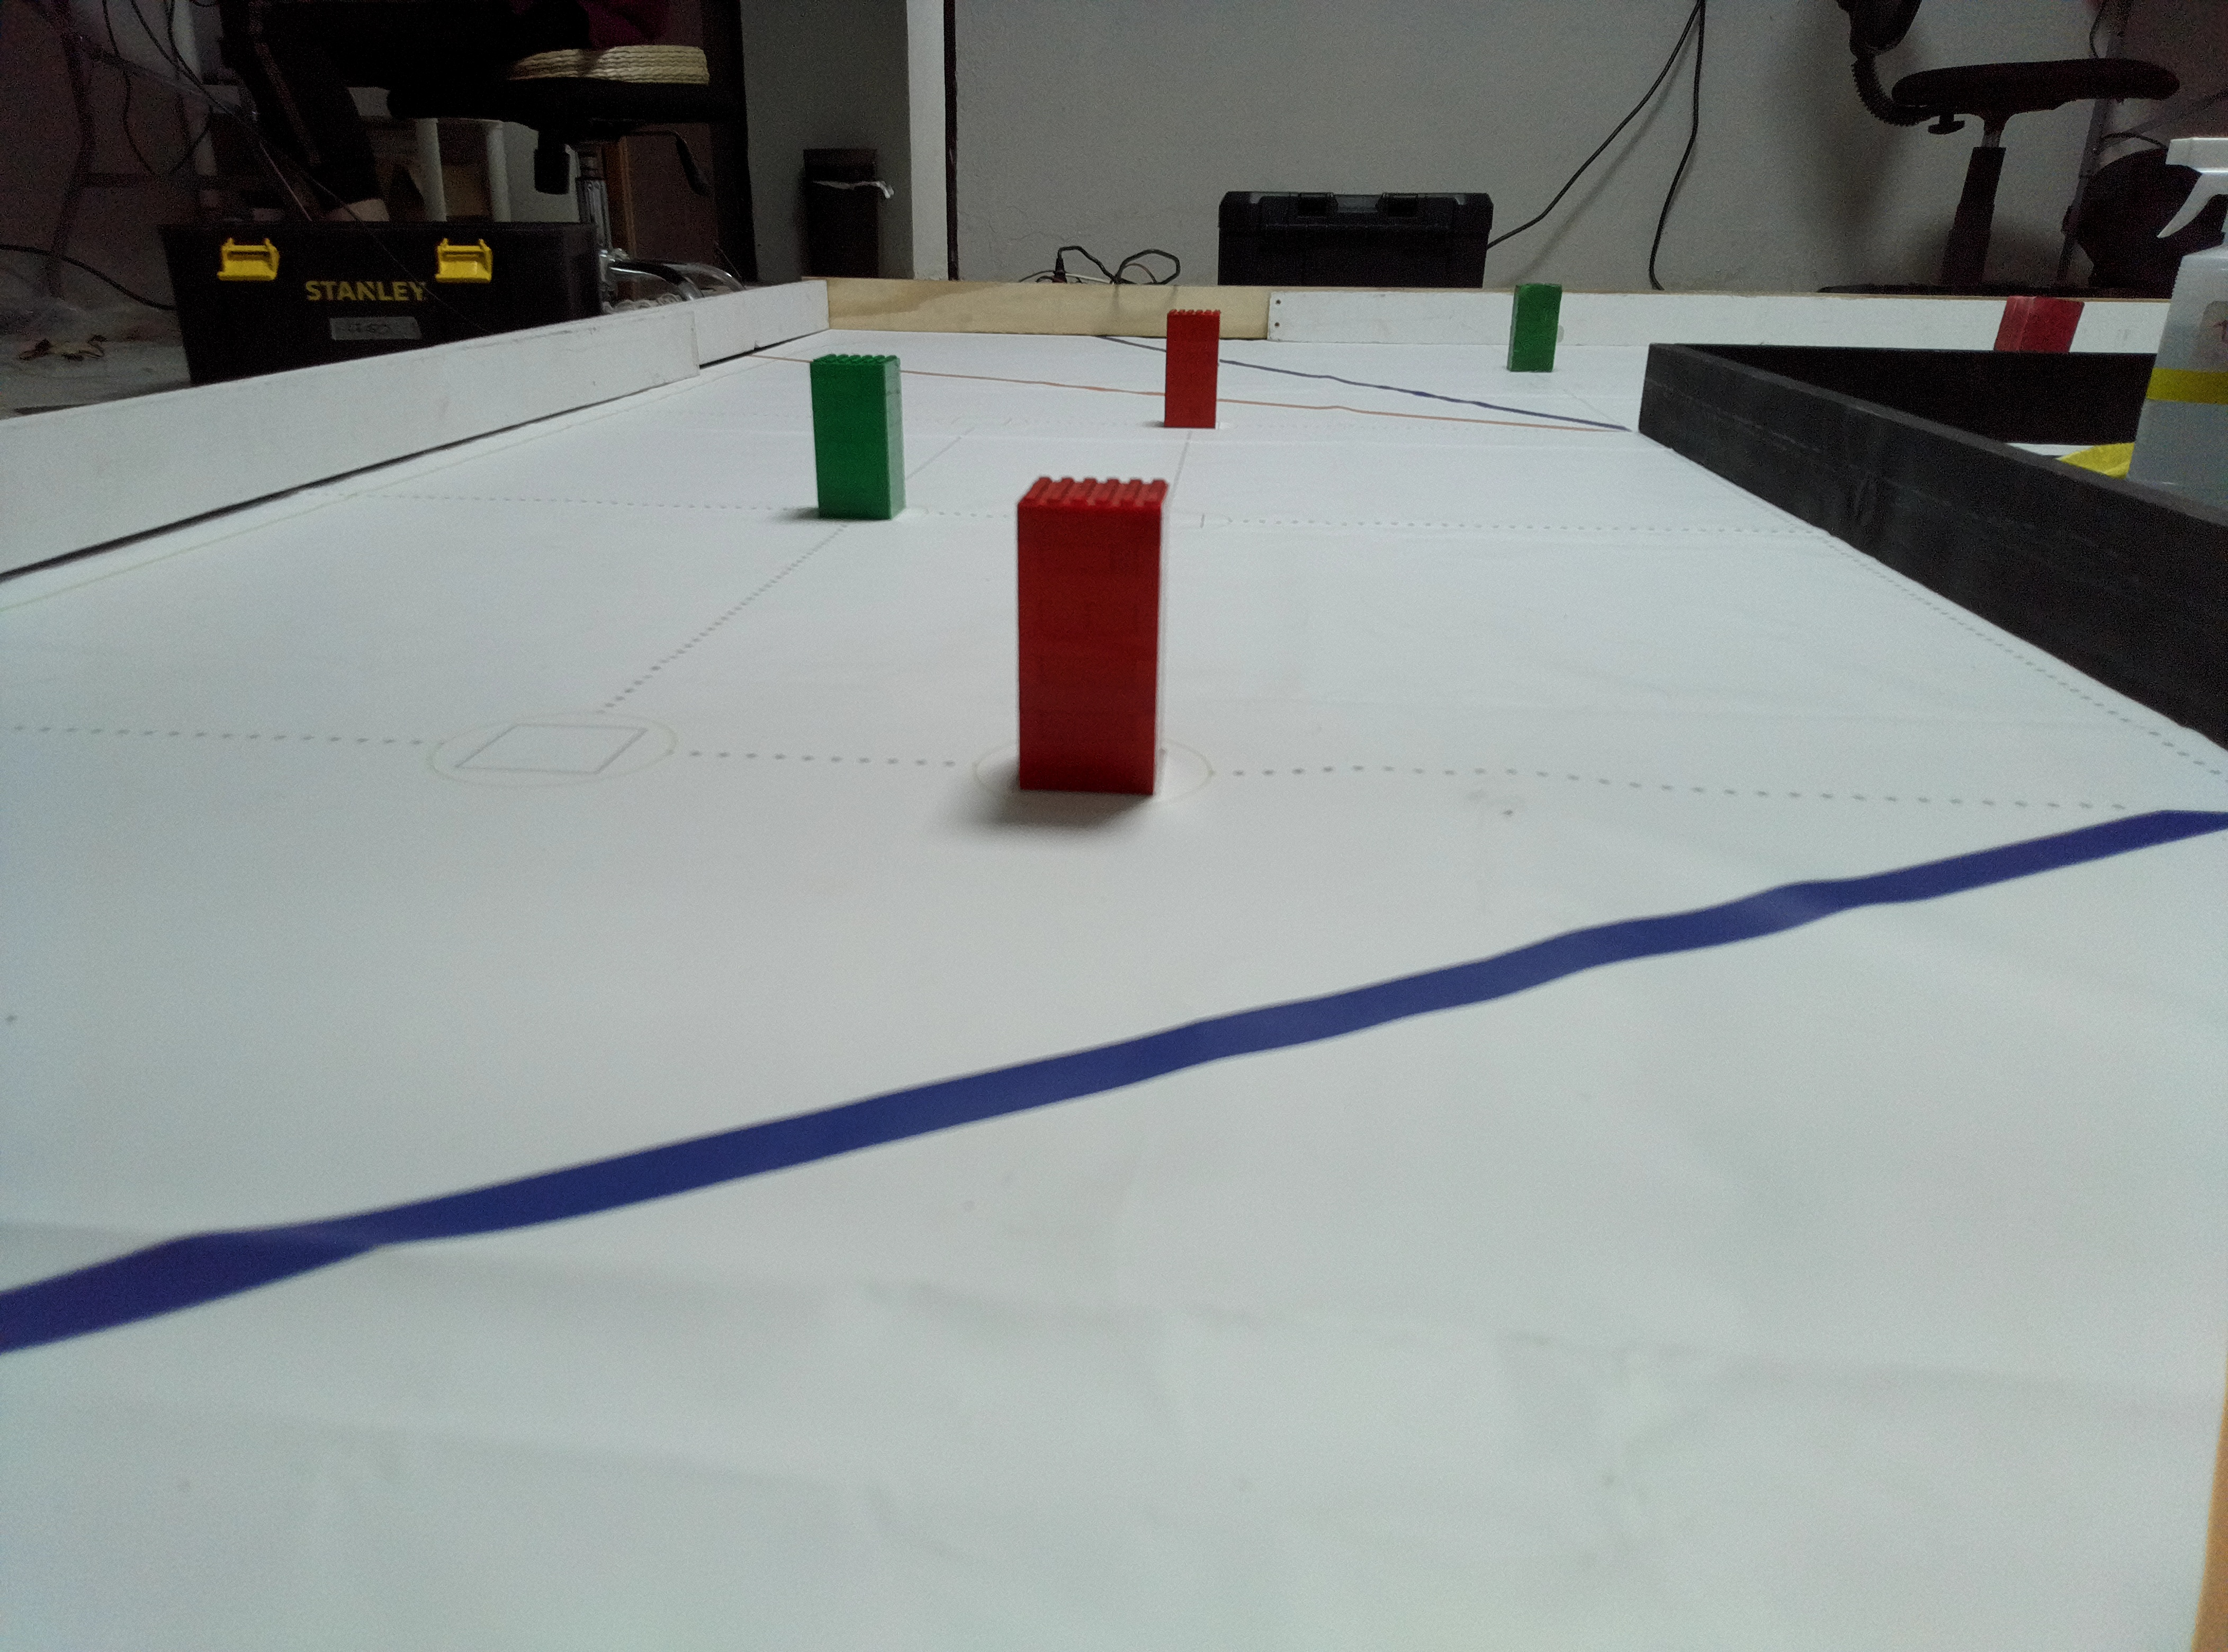greenbox: (807, 351, 911, 521), (1504, 281, 1563, 373)
redbox: (1010, 470, 1176, 800), (1163, 305, 1222, 432), (1990, 295, 2087, 356)
